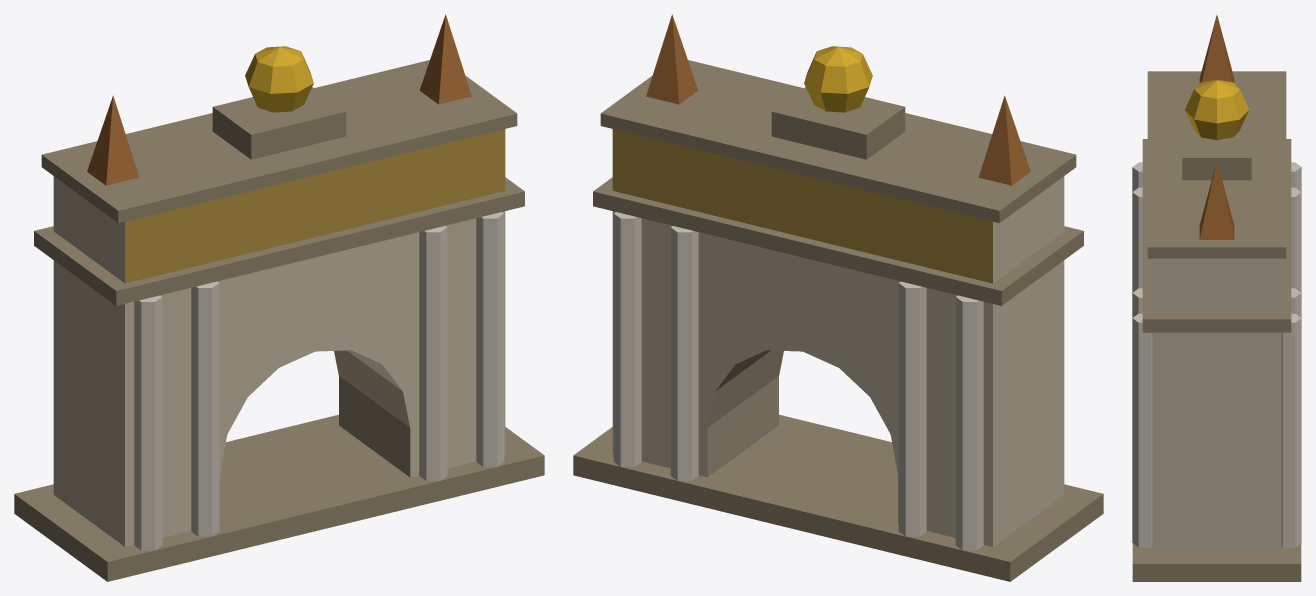
The model's file is arch.glb.
3 renders of one model, left to right at view 1: azimuth 30°, elevation 25°; view 2: azimuth 150°, elevation 25°; view 3: azimuth 270°, elevation 25°, orthographic. The views are drawn at different scales.
Parts seen in each view (by area): view 1: arch, step, attic, top_cornice, cornice, column3, column4, column1, column2, statue_base, orb, left_obelisk (+1 smaller); view 2: arch, step, attic, top_cornice, cornice, column7, column8, column5, column6, statue_base, orb, left_obelisk (+1 smaller); view 3: arch, top_cornice, attic, cornice, step, column1, column5, statue_base, orb, left_obelisk, right_obelisk, column3 (+5 smaller).
Part boxes in pixels (bbox=[...]): arch: bbox=[53, 211, 505, 546]; step: bbox=[14, 414, 544, 581]; attic: bbox=[53, 129, 505, 283]; top_cornice: bbox=[41, 60, 517, 223]; cornice: bbox=[34, 177, 524, 305]; column3: bbox=[191, 281, 219, 536]; column4: bbox=[134, 295, 162, 550]; column1: bbox=[476, 212, 504, 466]; column2: bbox=[419, 226, 447, 480]; statue_base: bbox=[212, 87, 346, 159]; orb: bbox=[245, 46, 313, 112]; left_obelisk: bbox=[419, 14, 471, 104]; arch: bbox=[612, 211, 1064, 546]; step: bbox=[573, 414, 1103, 581]; attic: bbox=[612, 129, 1064, 283]; top_cornice: bbox=[600, 60, 1076, 223]; cornice: bbox=[593, 177, 1083, 305]; column7: bbox=[898, 281, 926, 536]; column8: bbox=[955, 295, 983, 550]; column5: bbox=[613, 212, 641, 466]; column6: bbox=[670, 226, 698, 480]; statue_base: bbox=[771, 87, 905, 159]; orb: bbox=[804, 46, 872, 112]; left_obelisk: bbox=[646, 14, 698, 104]; arch: bbox=[1152, 332, 1281, 551]; top_cornice: bbox=[1147, 71, 1286, 258]; attic: bbox=[1152, 258, 1281, 312]; cornice: bbox=[1142, 139, 1291, 332]; step: bbox=[1132, 543, 1301, 581]; column1: bbox=[1132, 313, 1152, 547]; column5: bbox=[1281, 313, 1301, 547]; statue_base: bbox=[1182, 116, 1251, 180]; orb: bbox=[1185, 79, 1248, 139]; left_obelisk: bbox=[1199, 161, 1234, 239]; right_obelisk: bbox=[1199, 15, 1234, 82]; column3: bbox=[1132, 187, 1142, 292].
Bounding box in the file's own units: 0.92 × 0.9 × 0.3408.
